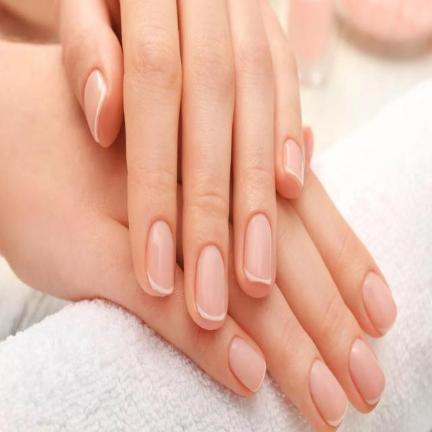Nail: (309, 360, 349, 426), (349, 338, 387, 406), (196, 245, 227, 321), (362, 271, 398, 334), (228, 337, 266, 393), (146, 220, 174, 294), (244, 214, 272, 285), (83, 69, 106, 144), (284, 139, 304, 188)
